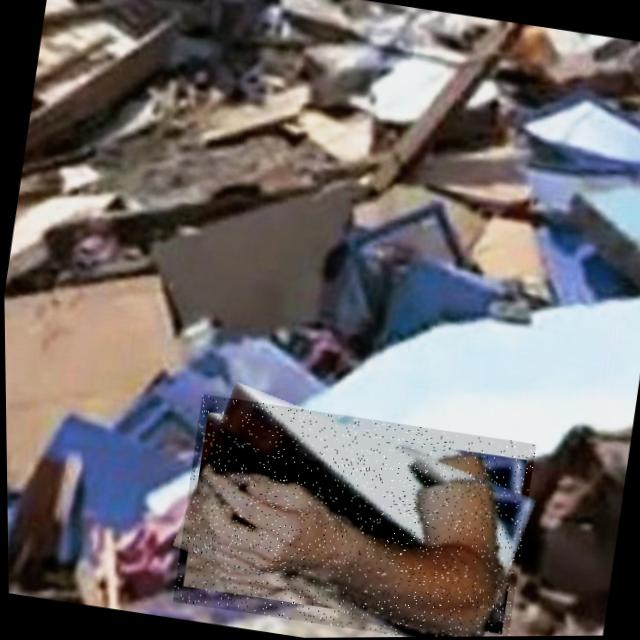Person in Rubble: (168, 392, 536, 639)
